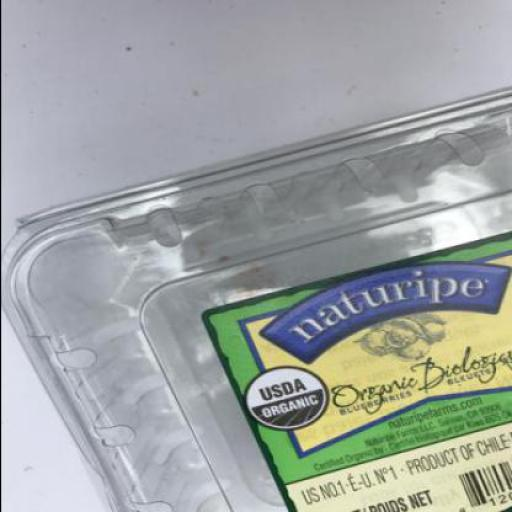plastic: (1, 86, 511, 512)
